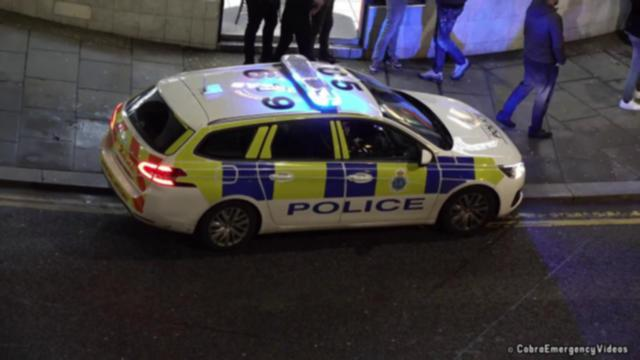police_car: (100, 55, 526, 241)
